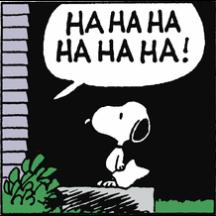snoopy: (83, 99, 153, 189)
